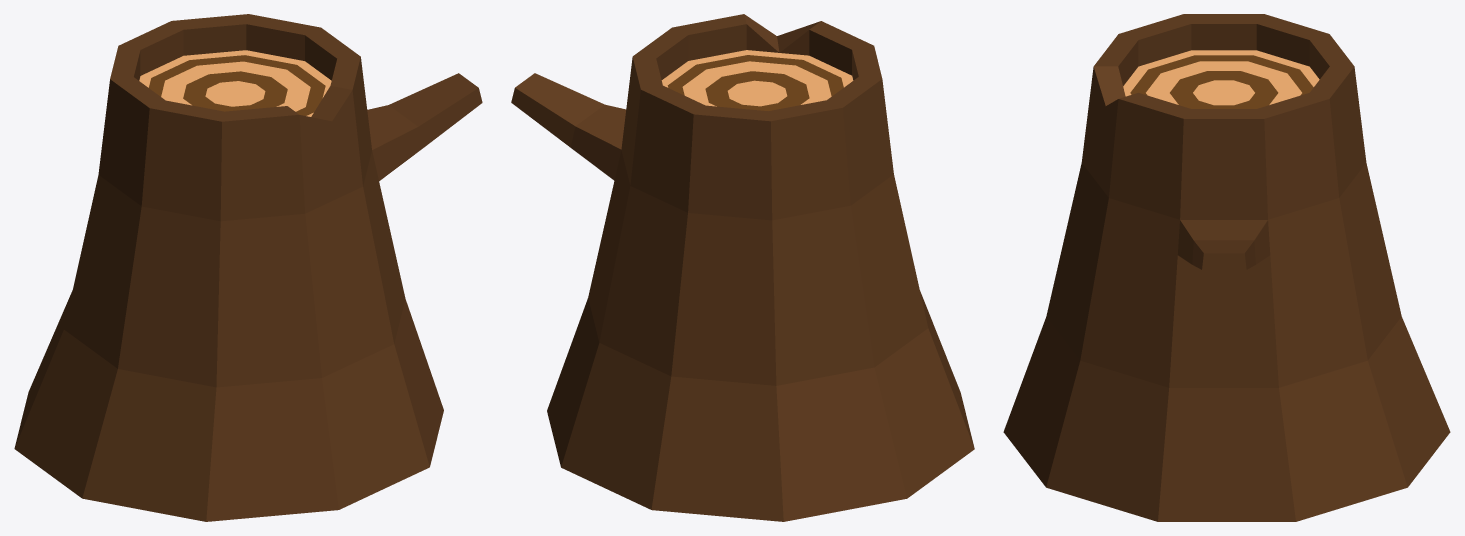
The model's file is choppedtree.fbx.
3 renders of one model, left to right at view 1: azimuth 30°, elevation 25°; view 2: azimuth 150°, elevation 25°; view 3: azimuth 270°, elevation 25°, orthographic. The views are drawn at different scales.
Parts seen in each view (by area): view 1: Cylinder; view 2: Cylinder; view 3: Cylinder.
Part boxes in pixels (x1,y1,x2,y2): Cylinder: [14, 14, 482, 521]; Cylinder: [511, 14, 974, 521]; Cylinder: [1003, 14, 1450, 521].
Size of the model in its own units: 344 by 282 by 311.
